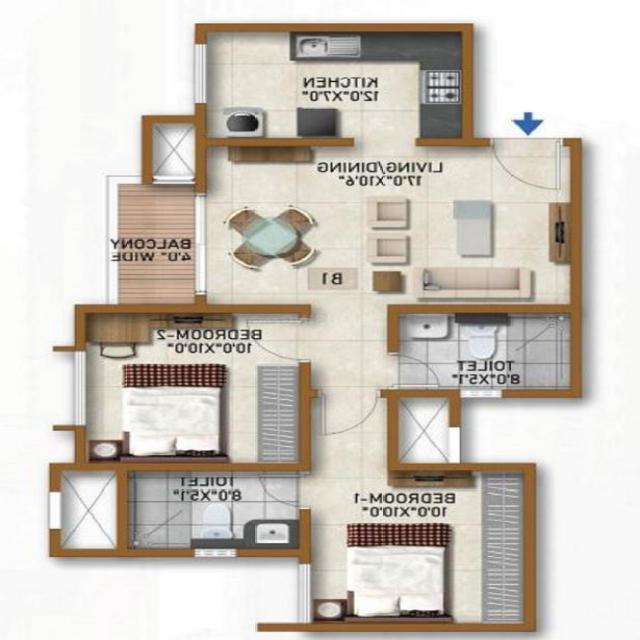Balcony-Sitout: (112, 179, 196, 307)
Bedroom: (77, 305, 308, 471)
Bedroom with Toilet: (120, 389, 533, 630)
Dining: (215, 205, 326, 278)
Enterance-Foyer: (482, 105, 566, 193)
Kitchen: (197, 23, 472, 144)
Living: (367, 141, 578, 310)
Toilet: (392, 306, 578, 394), (125, 468, 302, 553)
Utility: (290, 30, 366, 61)
